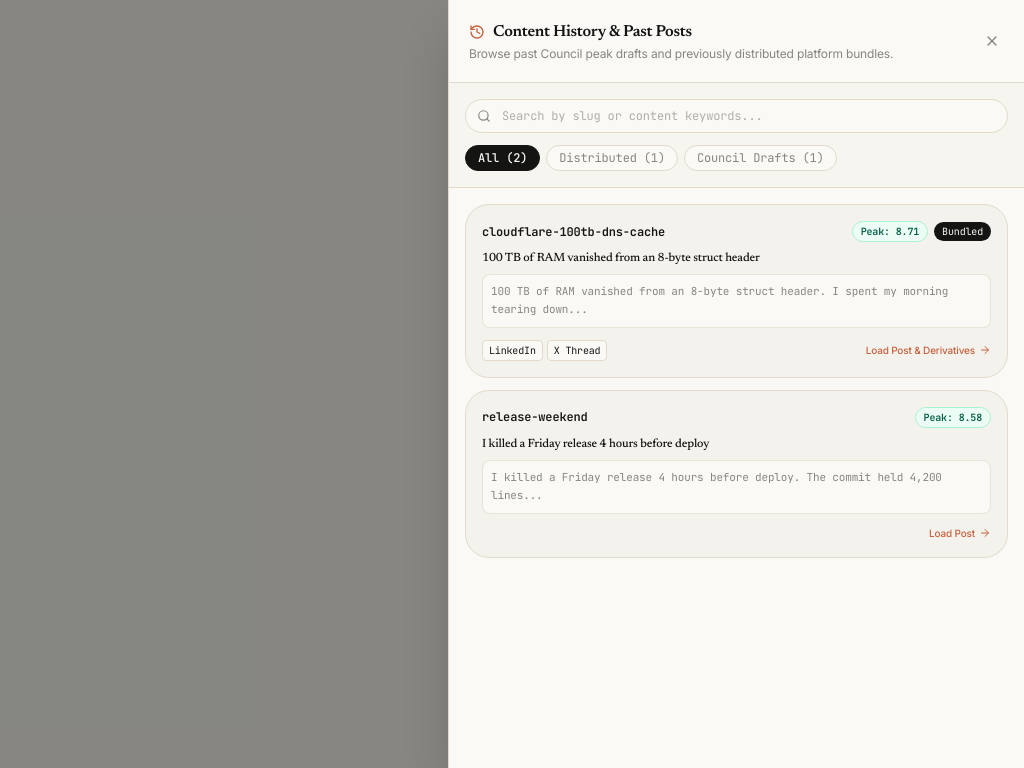
Scenario: DistributeHistoryDrawer › filters by category tab (All, Distributed, Council)
The width and height of the screenshot is (1024, 768).
Note: Filter to Council only
Click the button "Council Drafts (1)": (760, 158) [684,145,837,171]
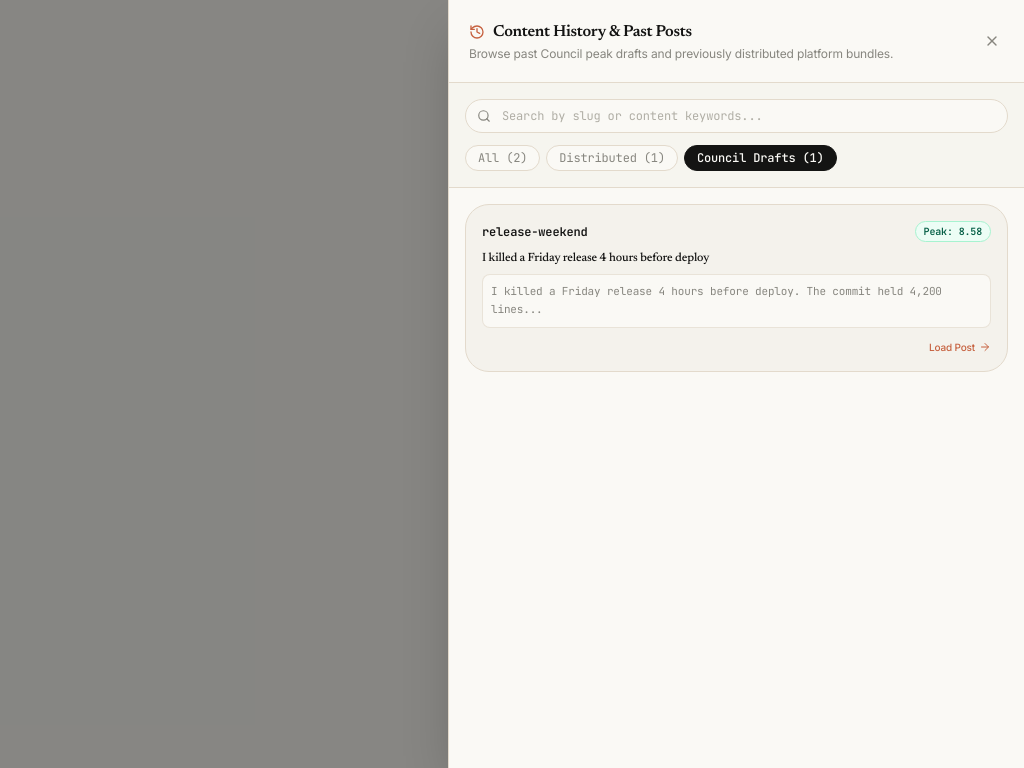
Expected: the text "release-weekend" is shown, [482,224,588,240]
Now the text "cloudflare-100tb-dns-cache" is gone
Note: Filter to Distributed only
Click the button "Distributed (1)": (612, 158) [546,145,678,171]
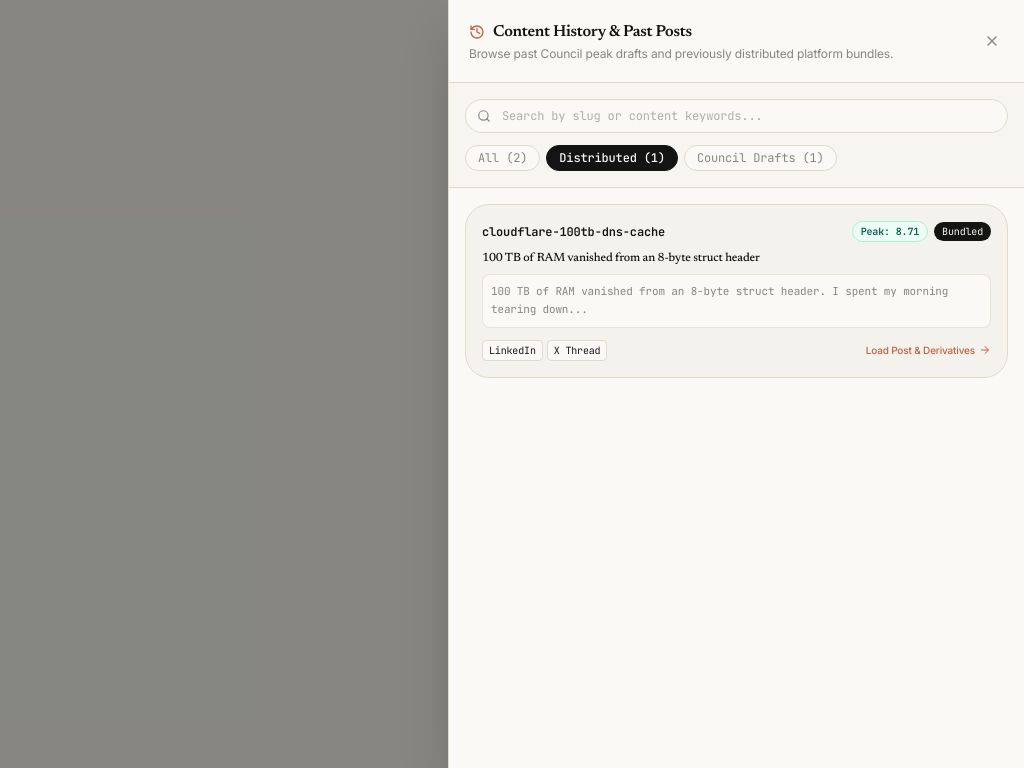
Now the text "cloudflare-100tb-dns-cache" is shown, box [482,224,665,240]
Now the text "release-weekend" is gone
